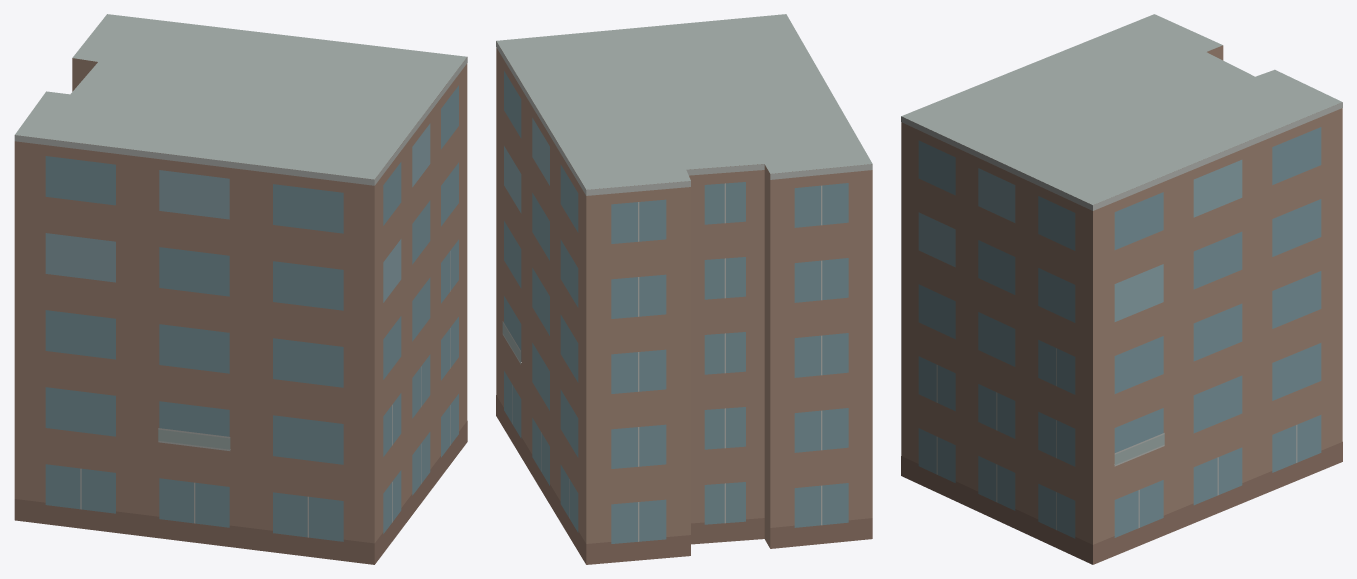
The model's file is survey-upis-32885057.glb.
3 renders of one model, left to right at view 1: azimuth 30°, elevation 25°; view 2: azimuth 150°, elevation 25°; view 3: azimuth 270°, elevation 25°, orthographic. The views are drawn at different scales.
Parts seen in each view (by area): view 1: survey-upis-32885057.tmp; view 2: survey-upis-32885057.tmp; view 3: survey-upis-32885057.tmp.
Part boxes in pixels (box(x1,y1,x2,y2)): survey-upis-32885057.tmp: box(14, 14, 467, 564); survey-upis-32885057.tmp: box(496, 14, 872, 564); survey-upis-32885057.tmp: box(901, 14, 1342, 564).
Size of the model in its own units: 17.22 by 15.1 by 16.81.
